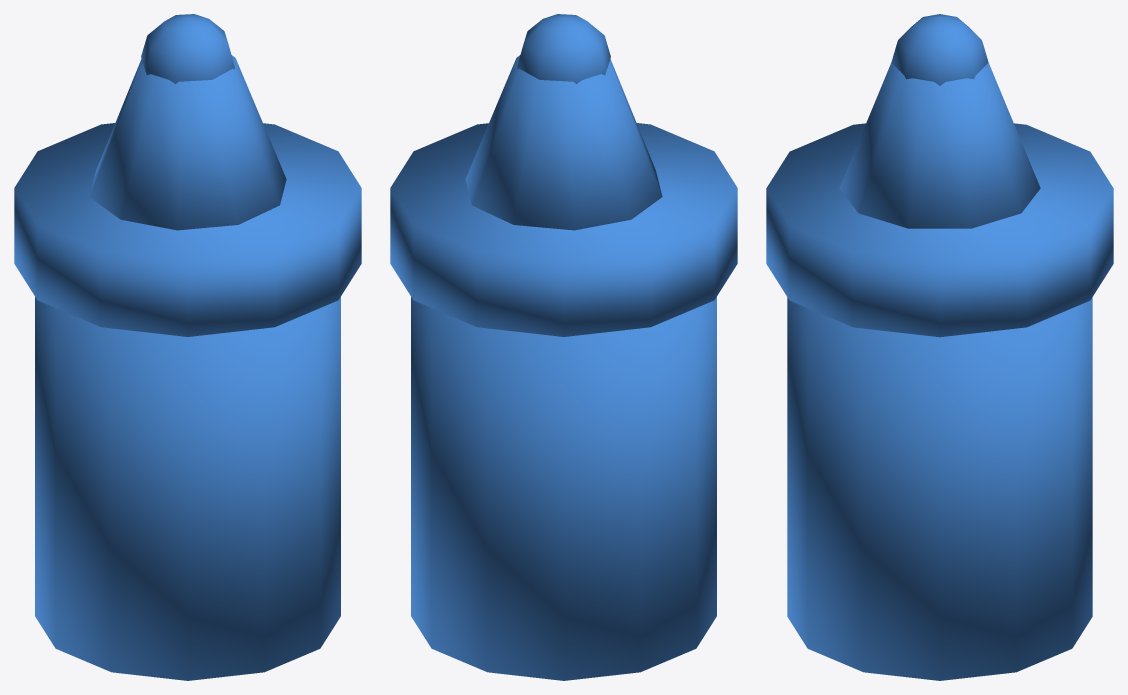
The model's file is biberon.glb.
3 renders of one model, left to right at view 1: azimuth 30°, elevation 25°; view 2: azimuth 150°, elevation 25°; view 3: azimuth 270°, elevation 25°, orthographic.
Visible parts, largest first — view 1: Biberon; view 2: Biberon; view 3: Biberon.
Part boxes in pixels (left/top/right/bottom): Biberon: left=14, top=14, right=361, bottom=680; Biberon: left=390, top=14, right=737, bottom=680; Biberon: left=766, top=14, right=1113, bottom=680.
Size of the model in its own units: 0.25 by 0.475 by 0.25.
